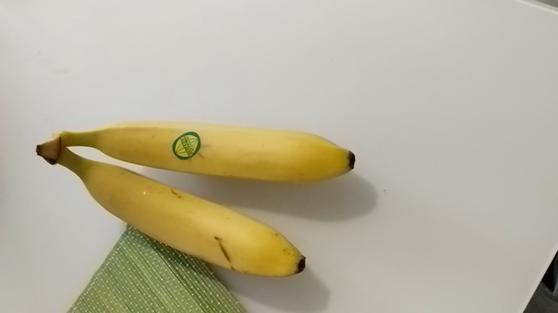banana: (38, 145, 309, 277), (35, 124, 359, 184)
